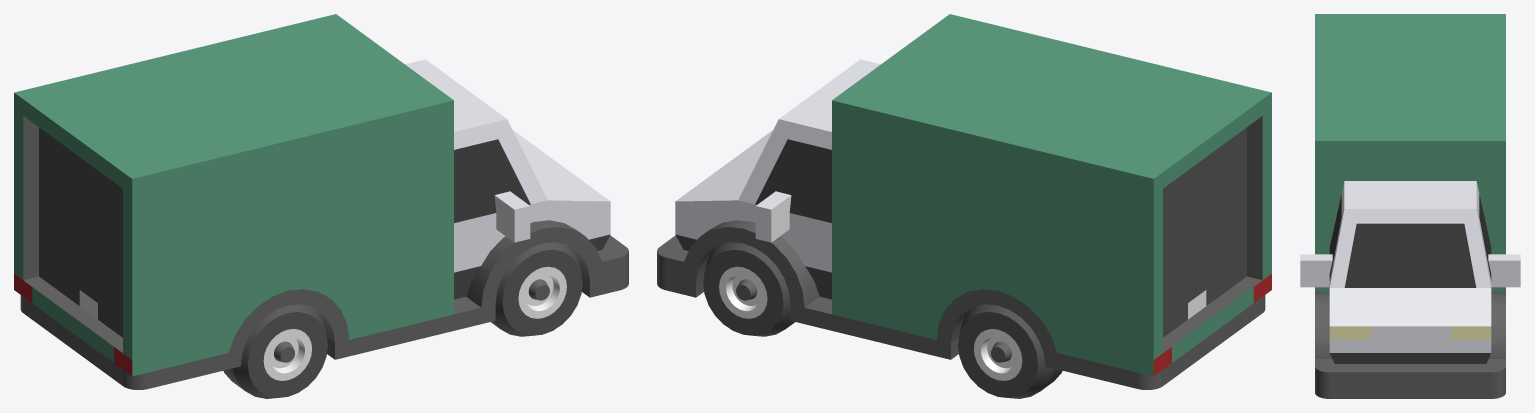
Rendered from 19 Trasport_Vehical.FBX.
3 views of the same model, side by side, from view 1: azimuth 30°, elevation 25°; view 2: azimuth 150°, elevation 25°; view 3: azimuth 270°, elevation 25° (orthographic). The views are drawn at different scales.
Visible parts, largest first — view 1: body, door, wheel_backRight, wheel_frontRight; view 2: body, door, wheel_backLeft, wheel_frontLeft; view 3: body.
Boxes of the visible parts, x1=… form: body: x1=14, y1=14, x2=628, y2=389; door: x1=39, y1=127, x2=122, y2=337; wheel_backRight: x1=223, y1=304, x2=327, y2=398; wheel_frontRight: x1=491, y1=242, x2=582, y2=336; body: x1=657, y1=14, x2=1271, y2=389; door: x1=1163, y1=127, x2=1246, y2=337; wheel_backLeft: x1=958, y1=304, x2=1062, y2=398; wheel_frontLeft: x1=703, y1=242, x2=794, y2=336; body: x1=1300, y1=14, x2=1520, y2=398.
Size of the model in its own units: 800 by 400 by 375.
